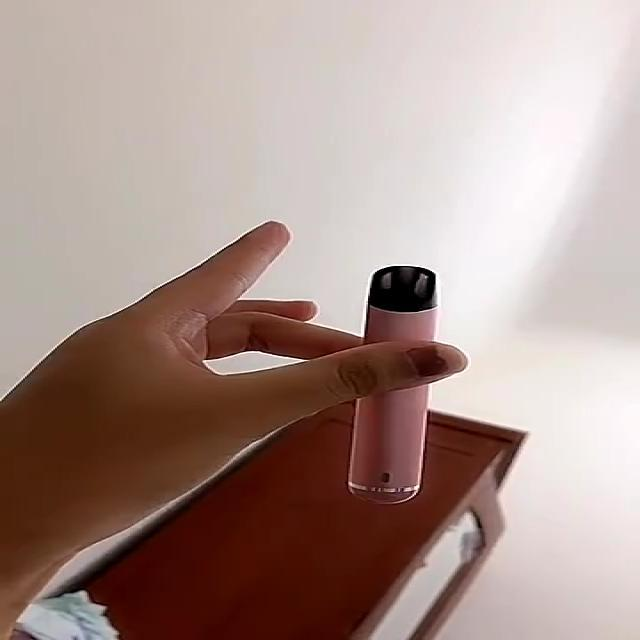Hazard: (346, 266, 436, 506)
